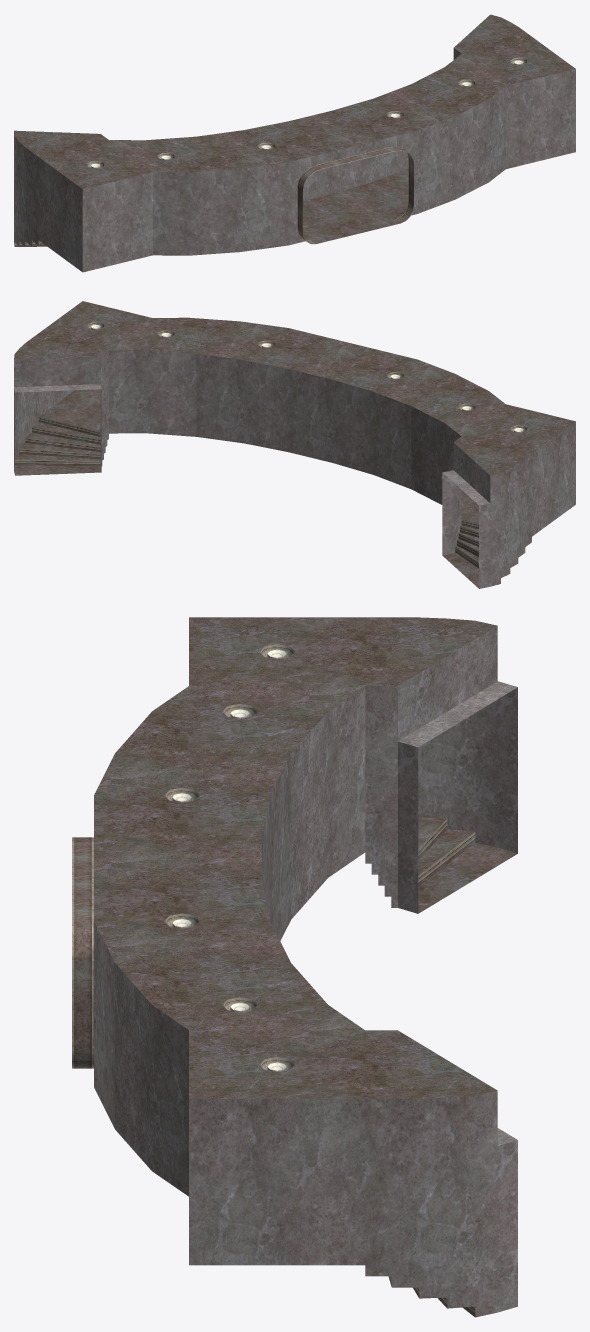
Rendered from ply_corl_cantina_s01_r1_foyer_mesh.fbx.
The picture shows the model from 3 angles, top to bottom: view 1: azimuth 30°, elevation 25°; view 2: azimuth 150°, elevation 25°; view 3: azimuth 270°, elevation 25°; orthographic projection. The views are drawn at different scales.
Parts seen in each view (by area): view 1: mesh_node; view 2: mesh_node; view 3: mesh_node.
Boxes of the visible parts, box(x1,y1,x2,y2) form: mesh_node: box(14, 14, 575, 272); mesh_node: box(14, 301, 575, 588); mesh_node: box(72, 617, 517, 1317).
Bounding box in the file's own units: 18.6 × 4 × 7.29.
